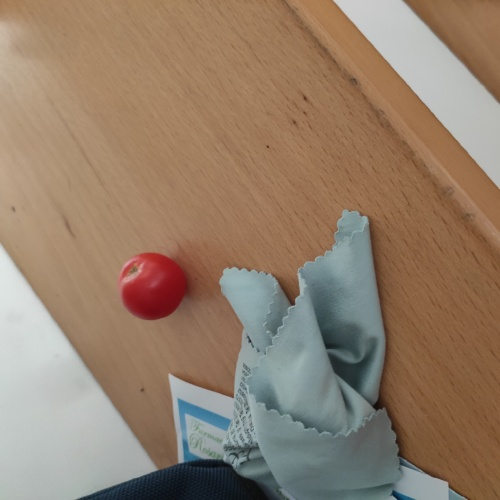pomodoro: (114, 249, 197, 325)
